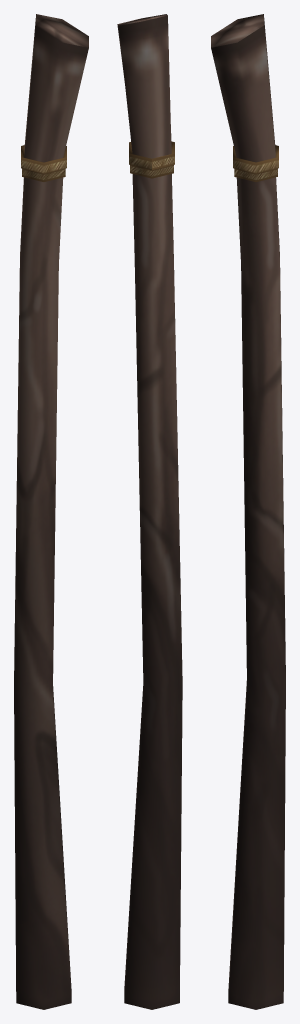
The model's file is varal4.fbx.
3 renders of one model, left to right at view 1: azimuth 90°, elevation 25°; view 2: azimuth 210°, elevation 25°; view 3: azimuth 270°, elevation 25°, orthographic.
Parts seen in each view (by area): view 1: CA_OPE_Props_Fazenda; view 2: CA_OPE_Props_Fazenda; view 3: CA_OPE_Props_Fazenda.
Boxes of the visible parts, x1,y1,x2,y2 form: CA_OPE_Props_Fazenda: [14, 14, 88, 1009]; CA_OPE_Props_Fazenda: [117, 14, 182, 1009]; CA_OPE_Props_Fazenda: [211, 14, 285, 1009].
Bounding box in the file's own units: 0.6938 × 11.7 × 0.8145.
